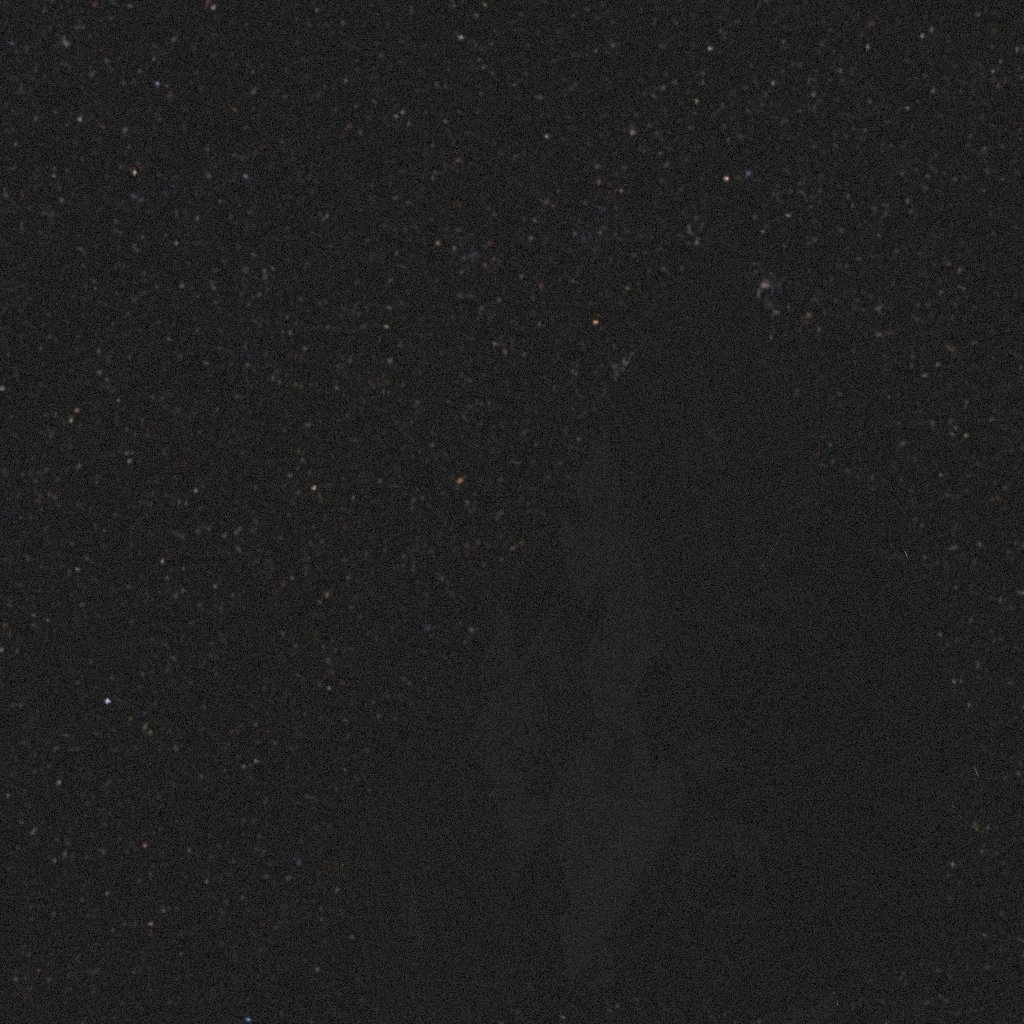proba_2: (322, 210, 987, 1024)
